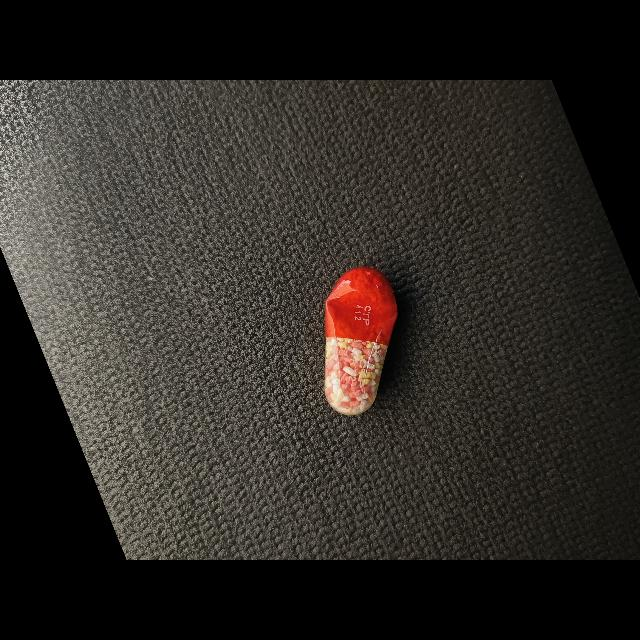Defective Capsule: (324, 267, 398, 416)
